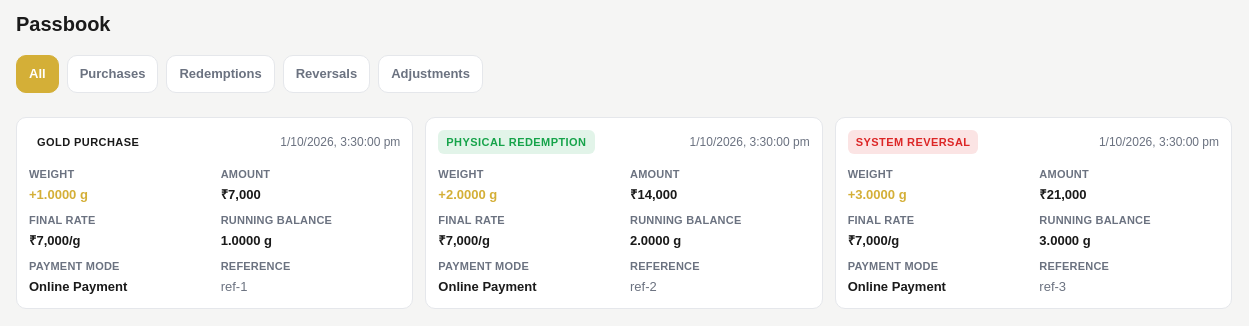
Test: Passbook › filters › goes back to everything with All
Expected: the text "Gold Purchase" is shown, top-left (37, 136), bottom-right (139, 148)
Click the button "Reversals" at (326, 74), box top-left (283, 55), bottom-right (370, 92)
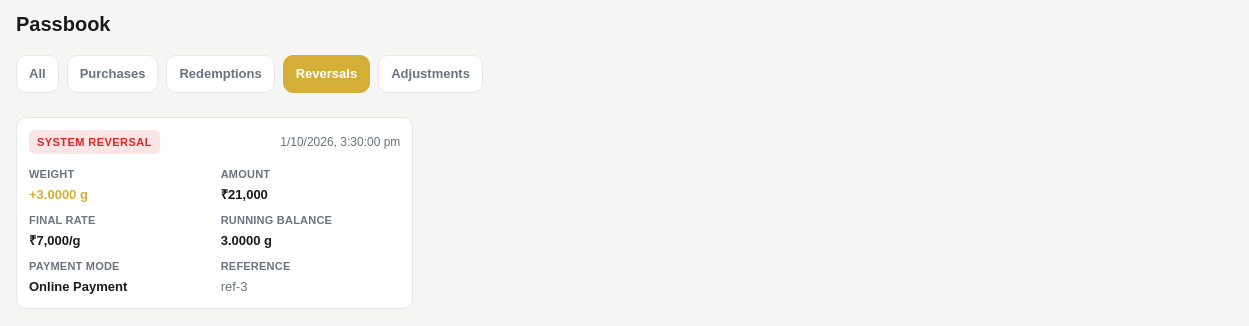
Click the button "All" at (37, 74), box top-left (16, 55), bottom-right (59, 92)
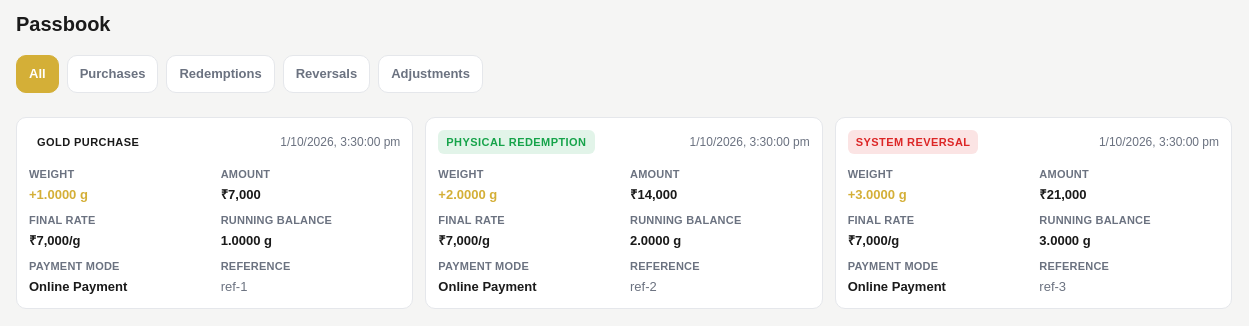
Now the text "Gold Purchase" is shown, box top-left (37, 136), bottom-right (139, 148)
Now the text "Physical Redemption" is shown, box top-left (438, 130), bottom-right (594, 154)
